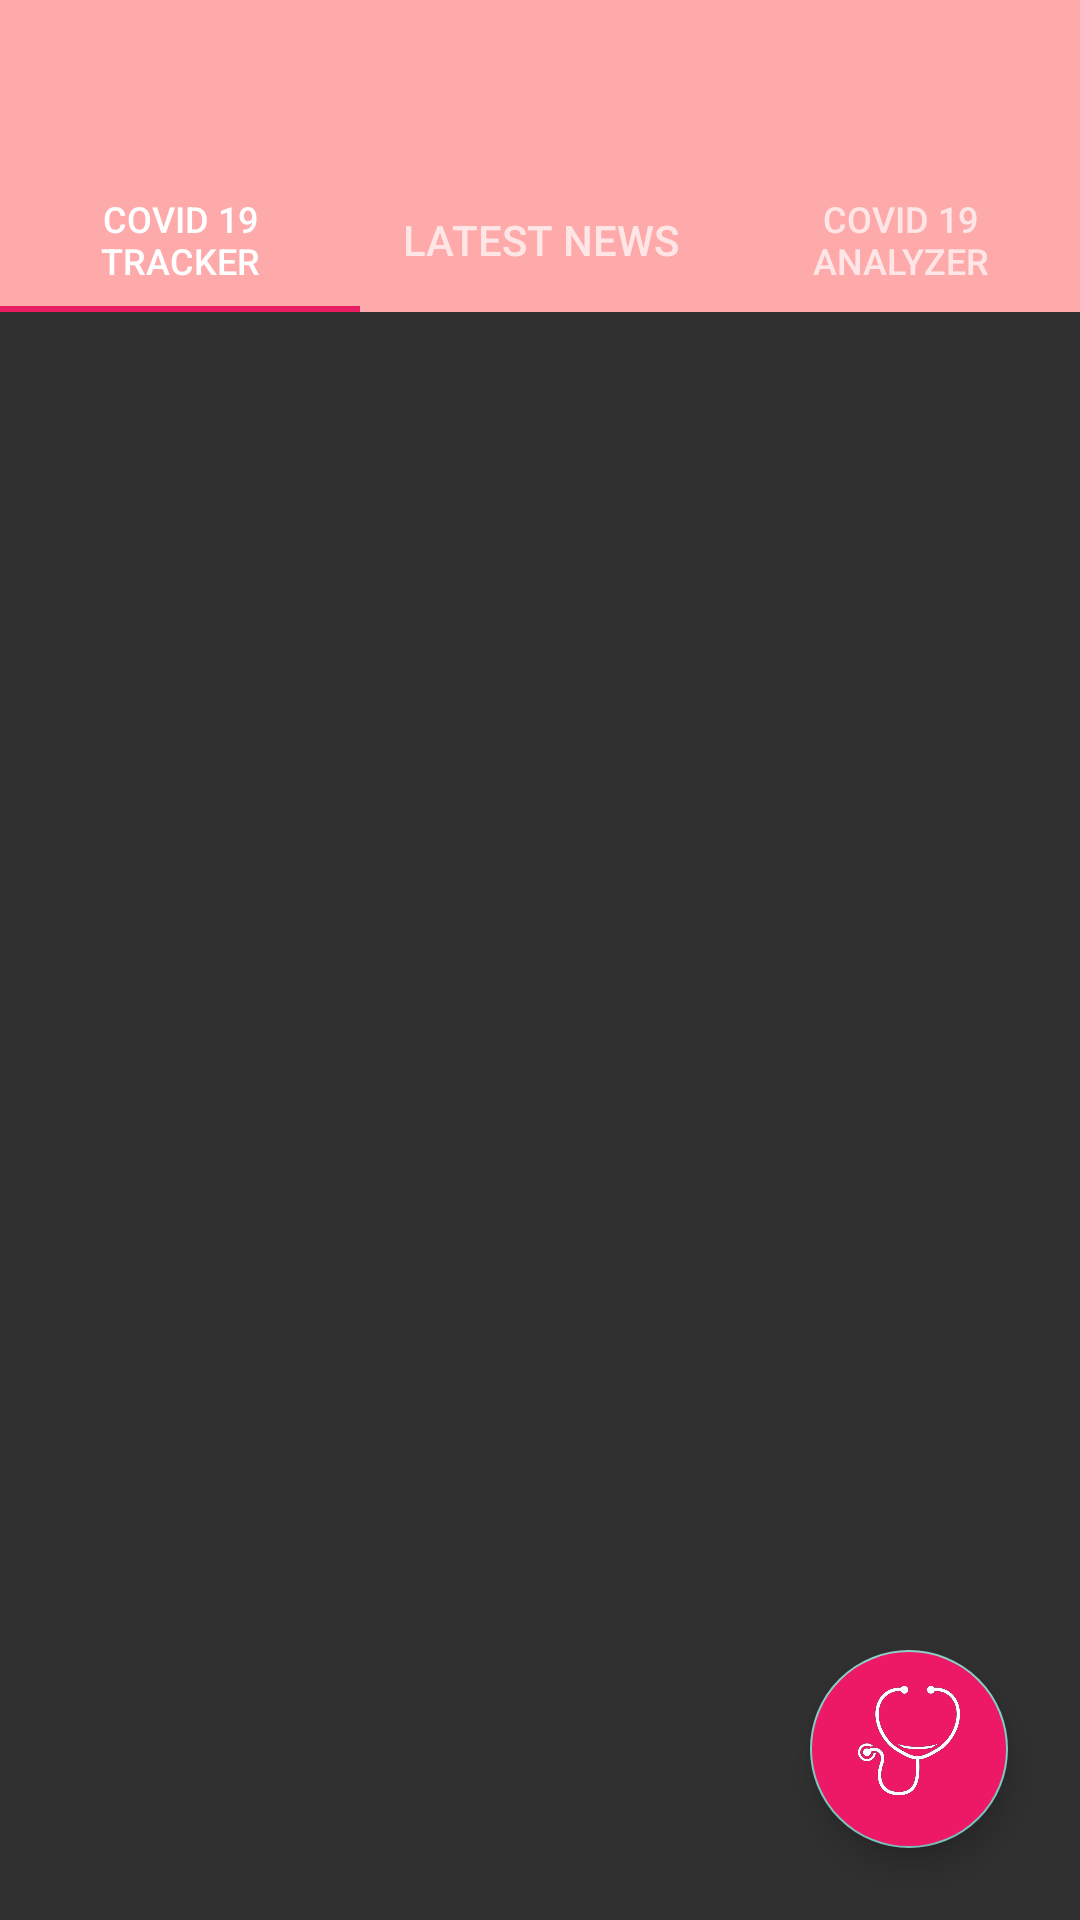

Icon click points for this 1080px x 1920px phone screenshot, format [x,y]:
stethoscope: [909,1749]
